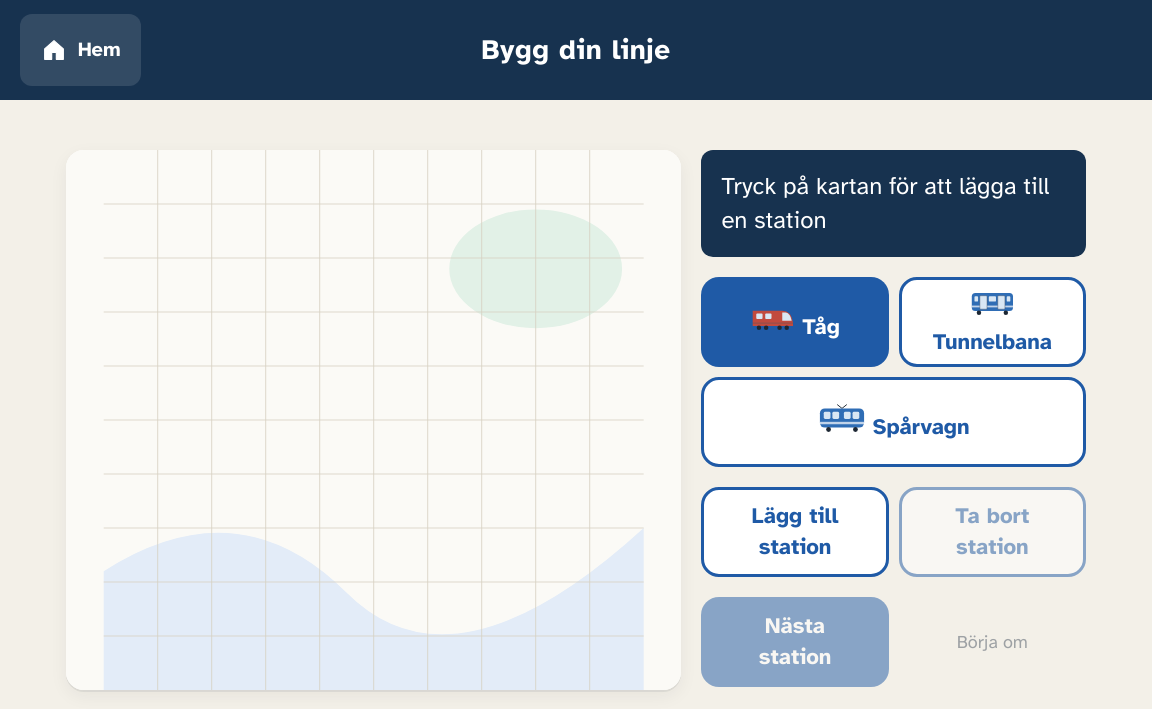
Test: FreePlayPage › steps station to station under reduced motion
This screenshot has width=1152, height=709.
Click the button "Lägg till station" at (795, 532), box [701,487,889,577]
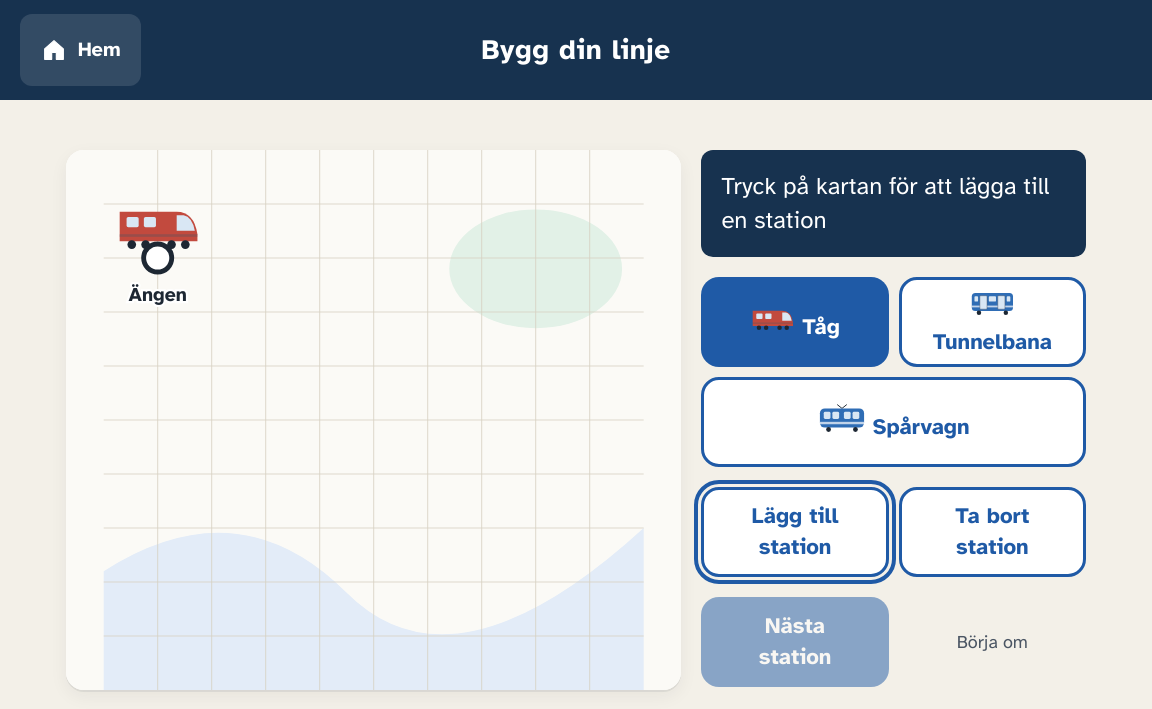
Click the button "Lägg till station" at (795, 532), box [701,487,889,577]
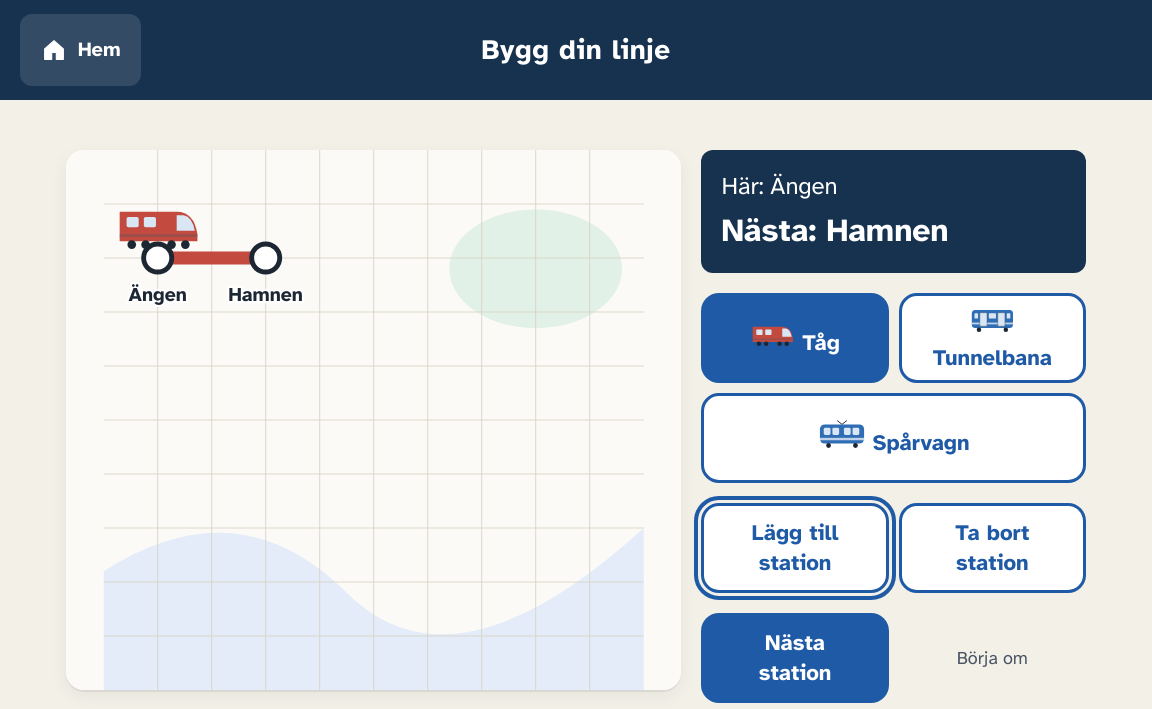
Click the button "Nästa station" at (795, 658), box [701,613,889,703]
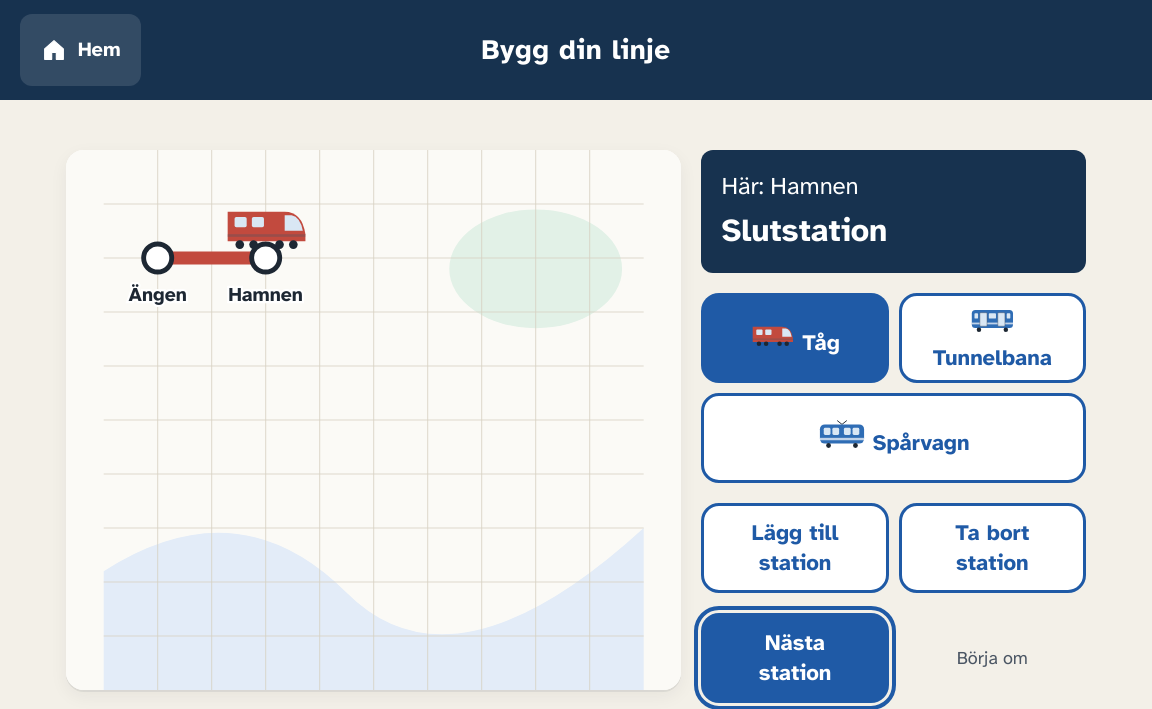
Expected: the text "Här: Hamnen" is shown, [721,171,859,201]
